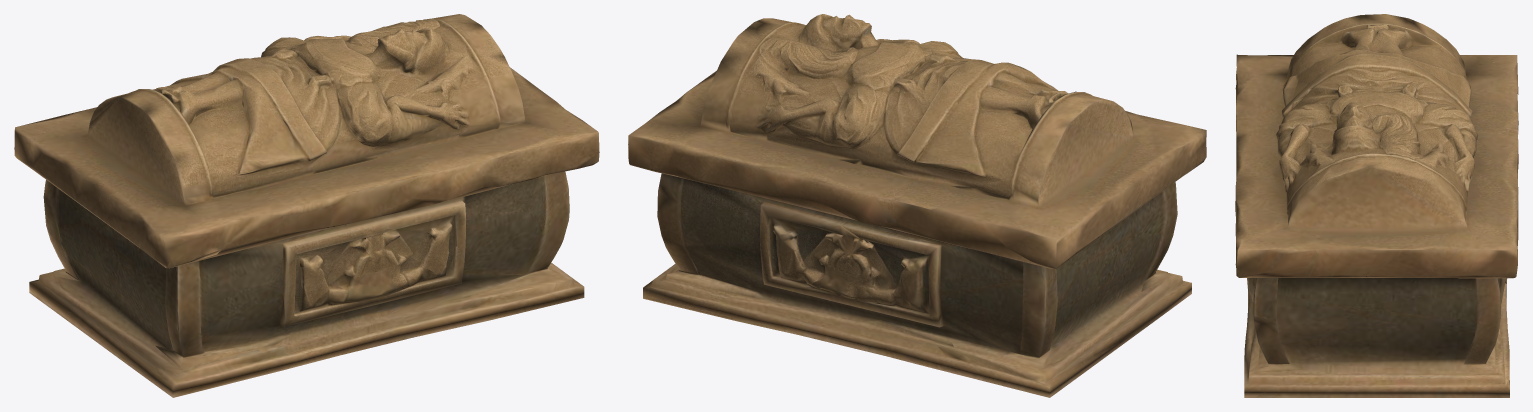
The model's file is sarcophagus.glb.
3 renders of one model, left to right at view 1: azimuth 30°, elevation 25°; view 2: azimuth 150°, elevation 25°; view 3: azimuth 270°, elevation 25°, orthographic. The views are drawn at different scales.
Parts seen in each view (by area): view 1: Mesh_0; view 2: Mesh_0; view 3: Mesh_0.
Boxes of the visible parts, box(x1,y1,x2,y2) form: Mesh_0: box(14, 14, 599, 397); Mesh_0: box(628, 14, 1206, 397); Mesh_0: box(1235, 14, 1518, 397).
Size of the model in its own units: 1.9 by 1.06 by 1.16.
Materials: 1 (1 with a texture image).
